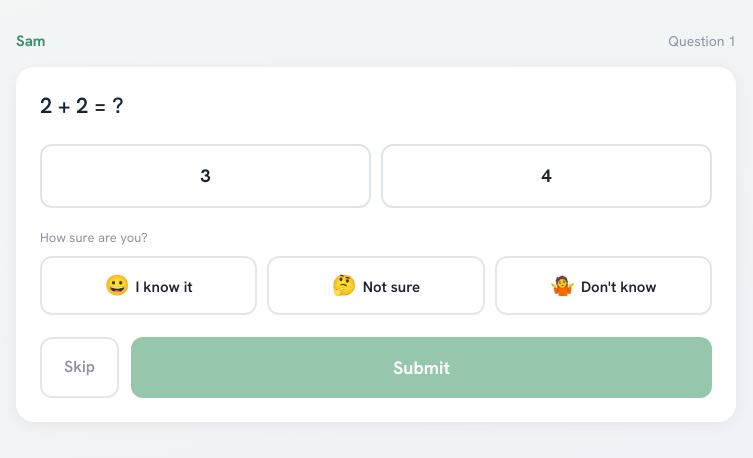
KioskQuestionScreen submit failure messaging › shows a connectivity-specific message when the request never reached the server
Click the button "4": (546, 176) [381,144,712,208]
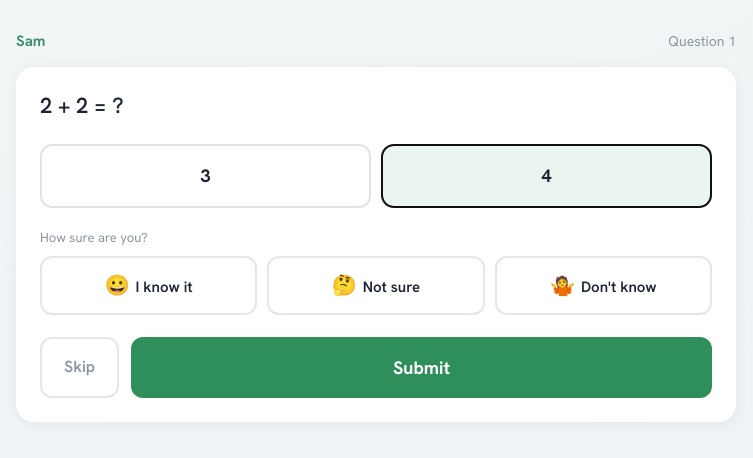
Click the button "Submit": (422, 368) [131,337,712,398]
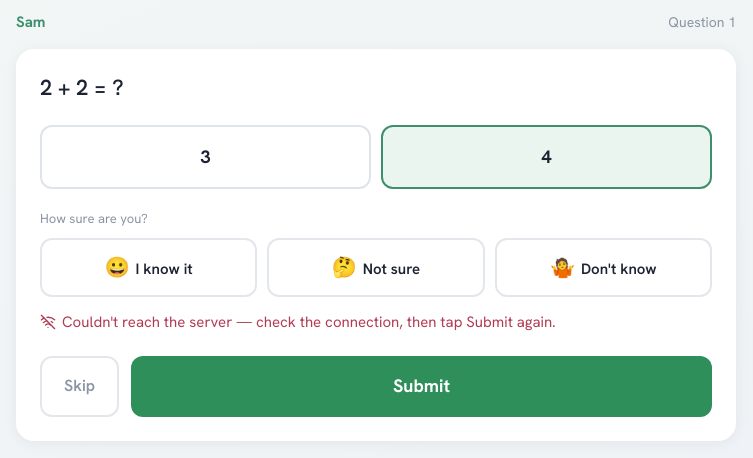
Expected: the text "Couldn't reach the server" is shown, [62,312,556,332]
